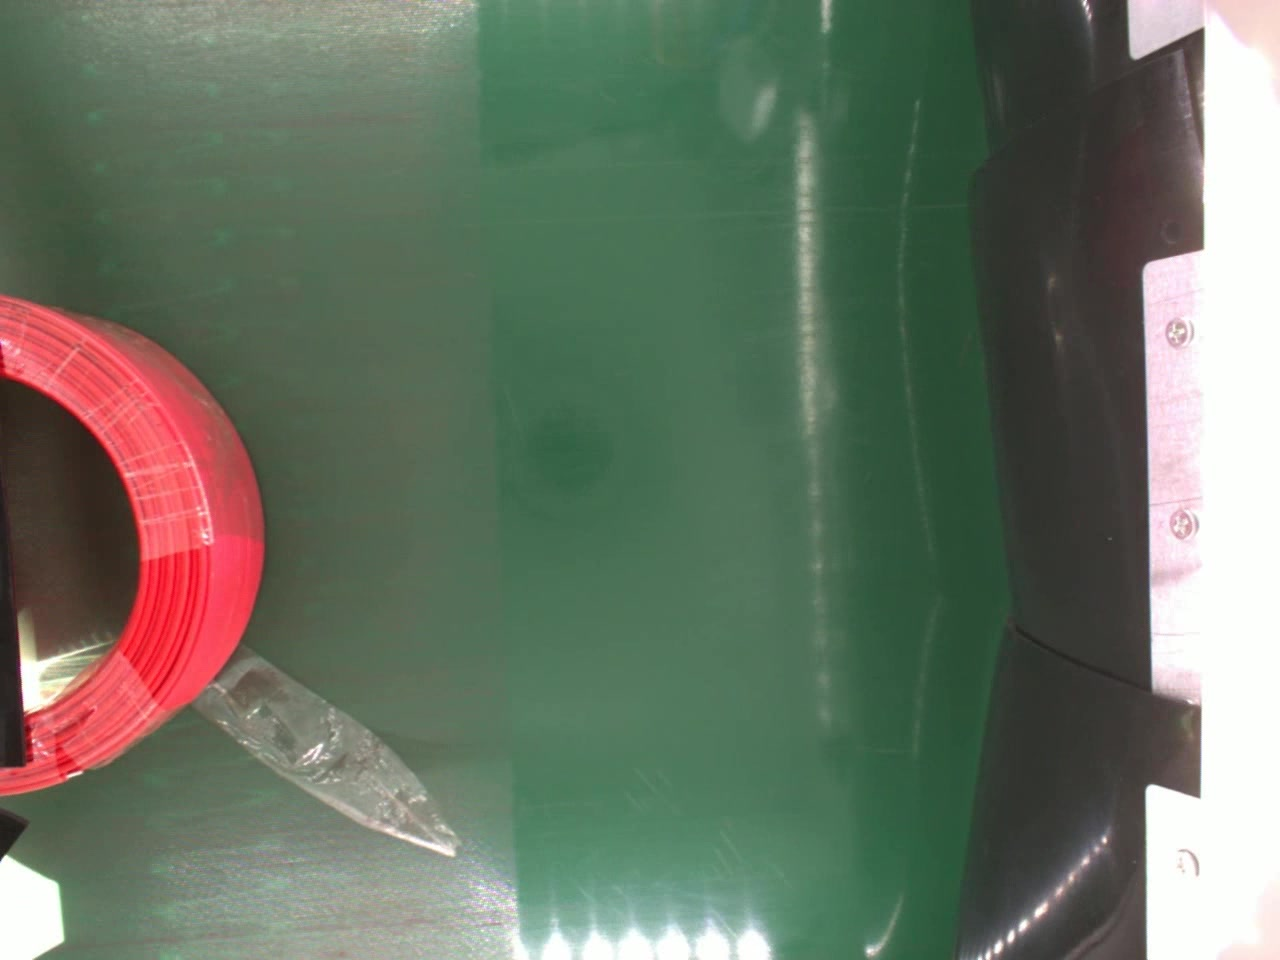red: (0, 291, 270, 797)
